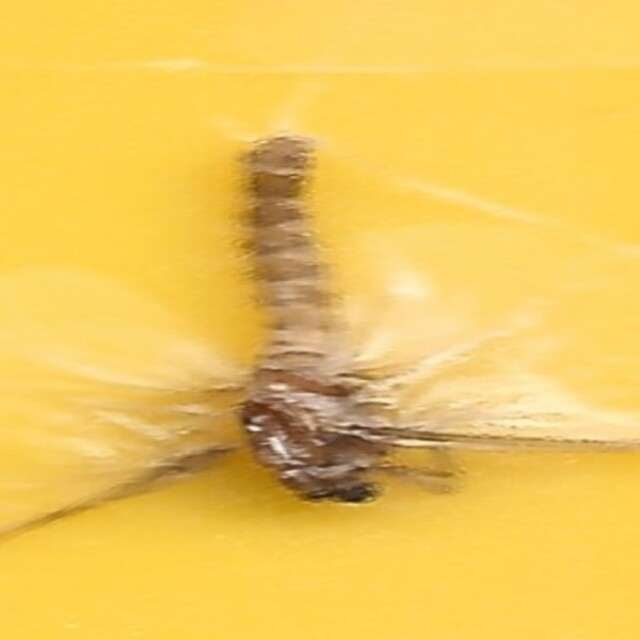Ephemeroptera: (229, 121, 411, 519)
